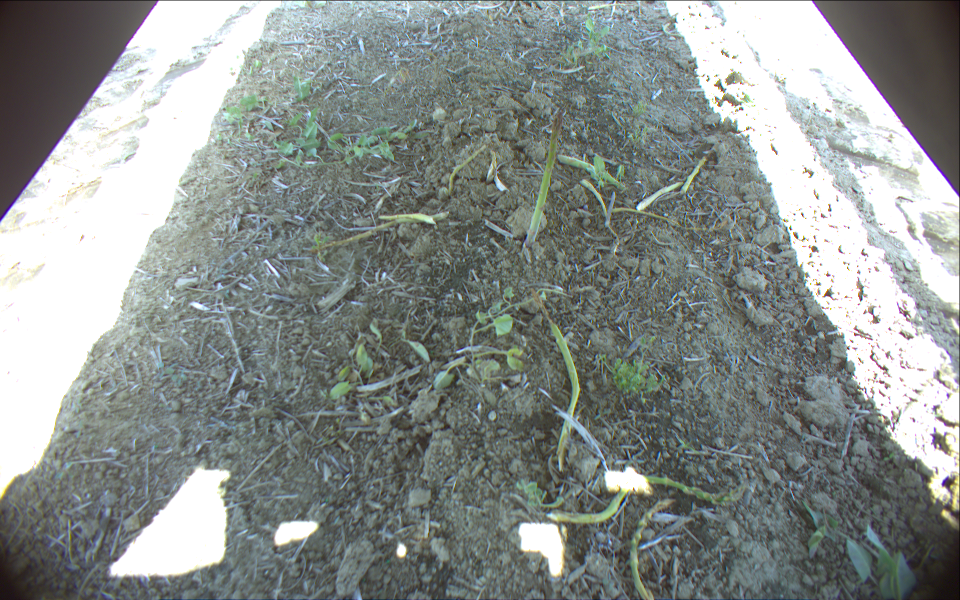aspa: (525, 288, 581, 471), (547, 477, 744, 524), (303, 213, 449, 256), (527, 106, 565, 247), (629, 497, 673, 600), (610, 207, 728, 231), (559, 154, 625, 187), (446, 145, 488, 194), (633, 182, 682, 213), (680, 151, 713, 197), (378, 214, 436, 224), (662, 21, 687, 40), (589, 1, 628, 10)
